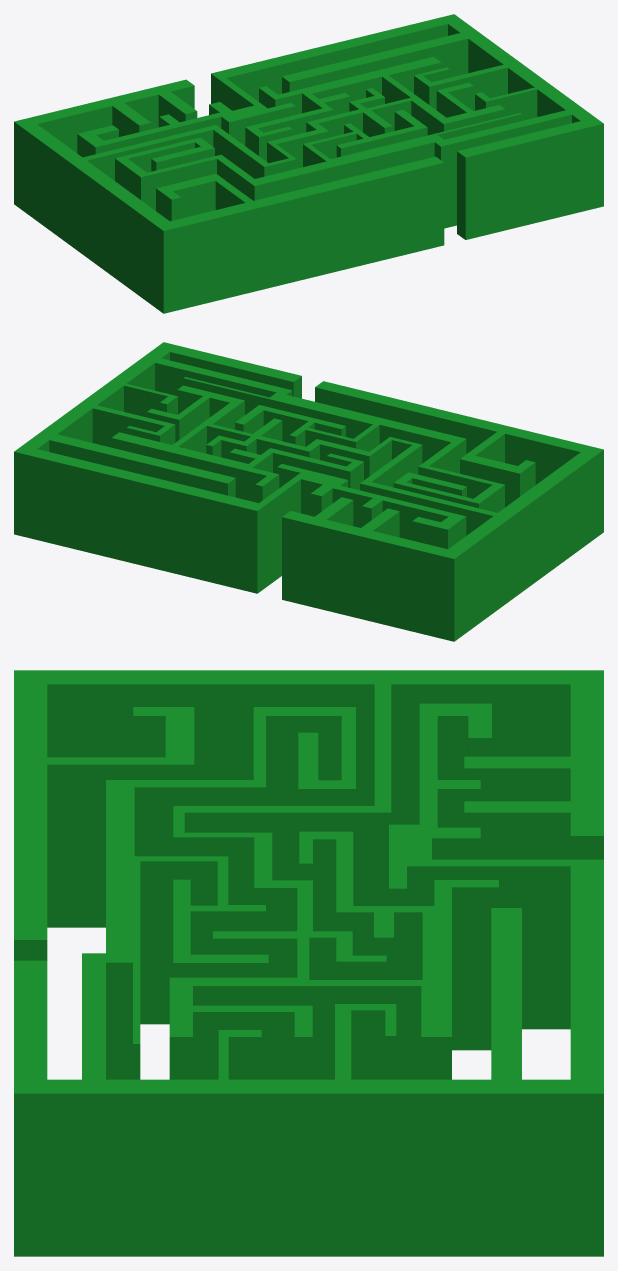
Rendered from maze hard.fbx.
3 renders of one model, top to bottom at view 1: azimuth 30°, elevation 25°; view 2: azimuth 150°, elevation 25°; view 3: azimuth 270°, elevation 25°, orthographic. The views are drawn at different scales.
Visible parts, largest first — view 1: Model; view 2: Model; view 3: Model.
Boxes of the visible parts, x1,y1,x2,y2 form: Model: (14,14,603,313); Model: (14,342,603,641); Model: (14,670,603,1256).
Size of the model in its own units: 5.57 by 1 by 3.28.
